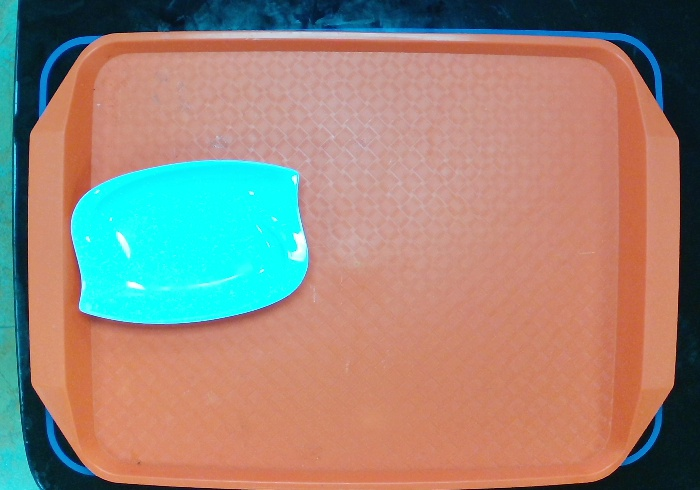RJxy-Jian_Jiao_Fang_Die: (72, 159, 314, 325)
